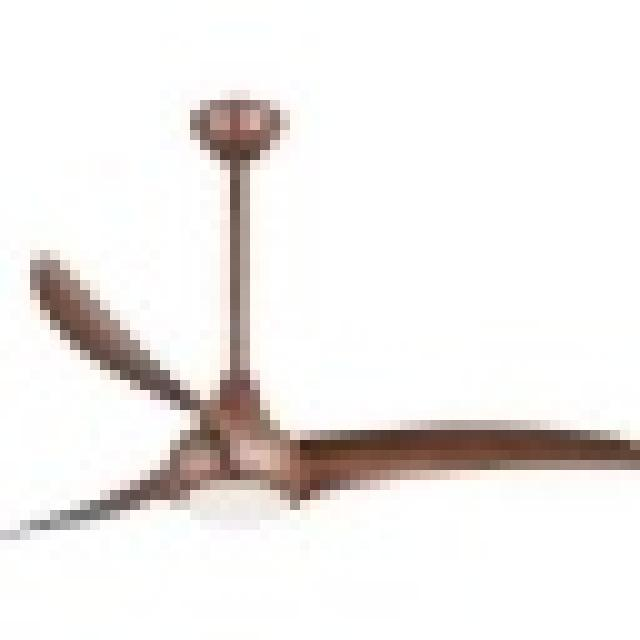fan_off: (10, 94, 640, 534)
